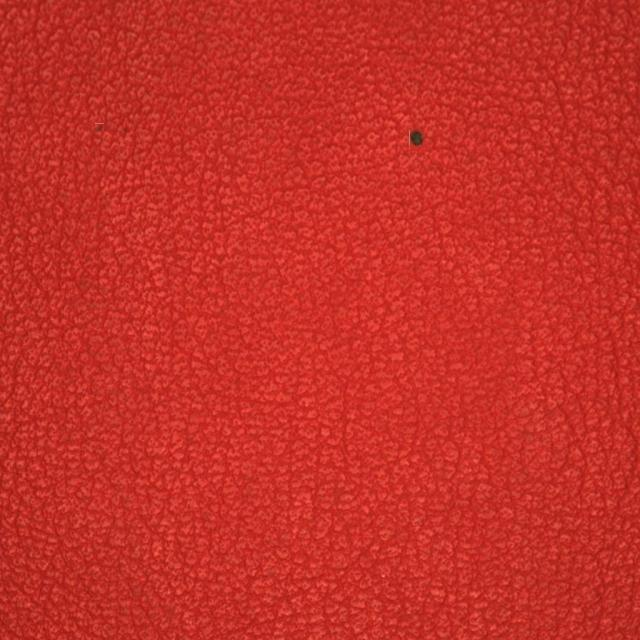Hole: (352, 52, 477, 225)
